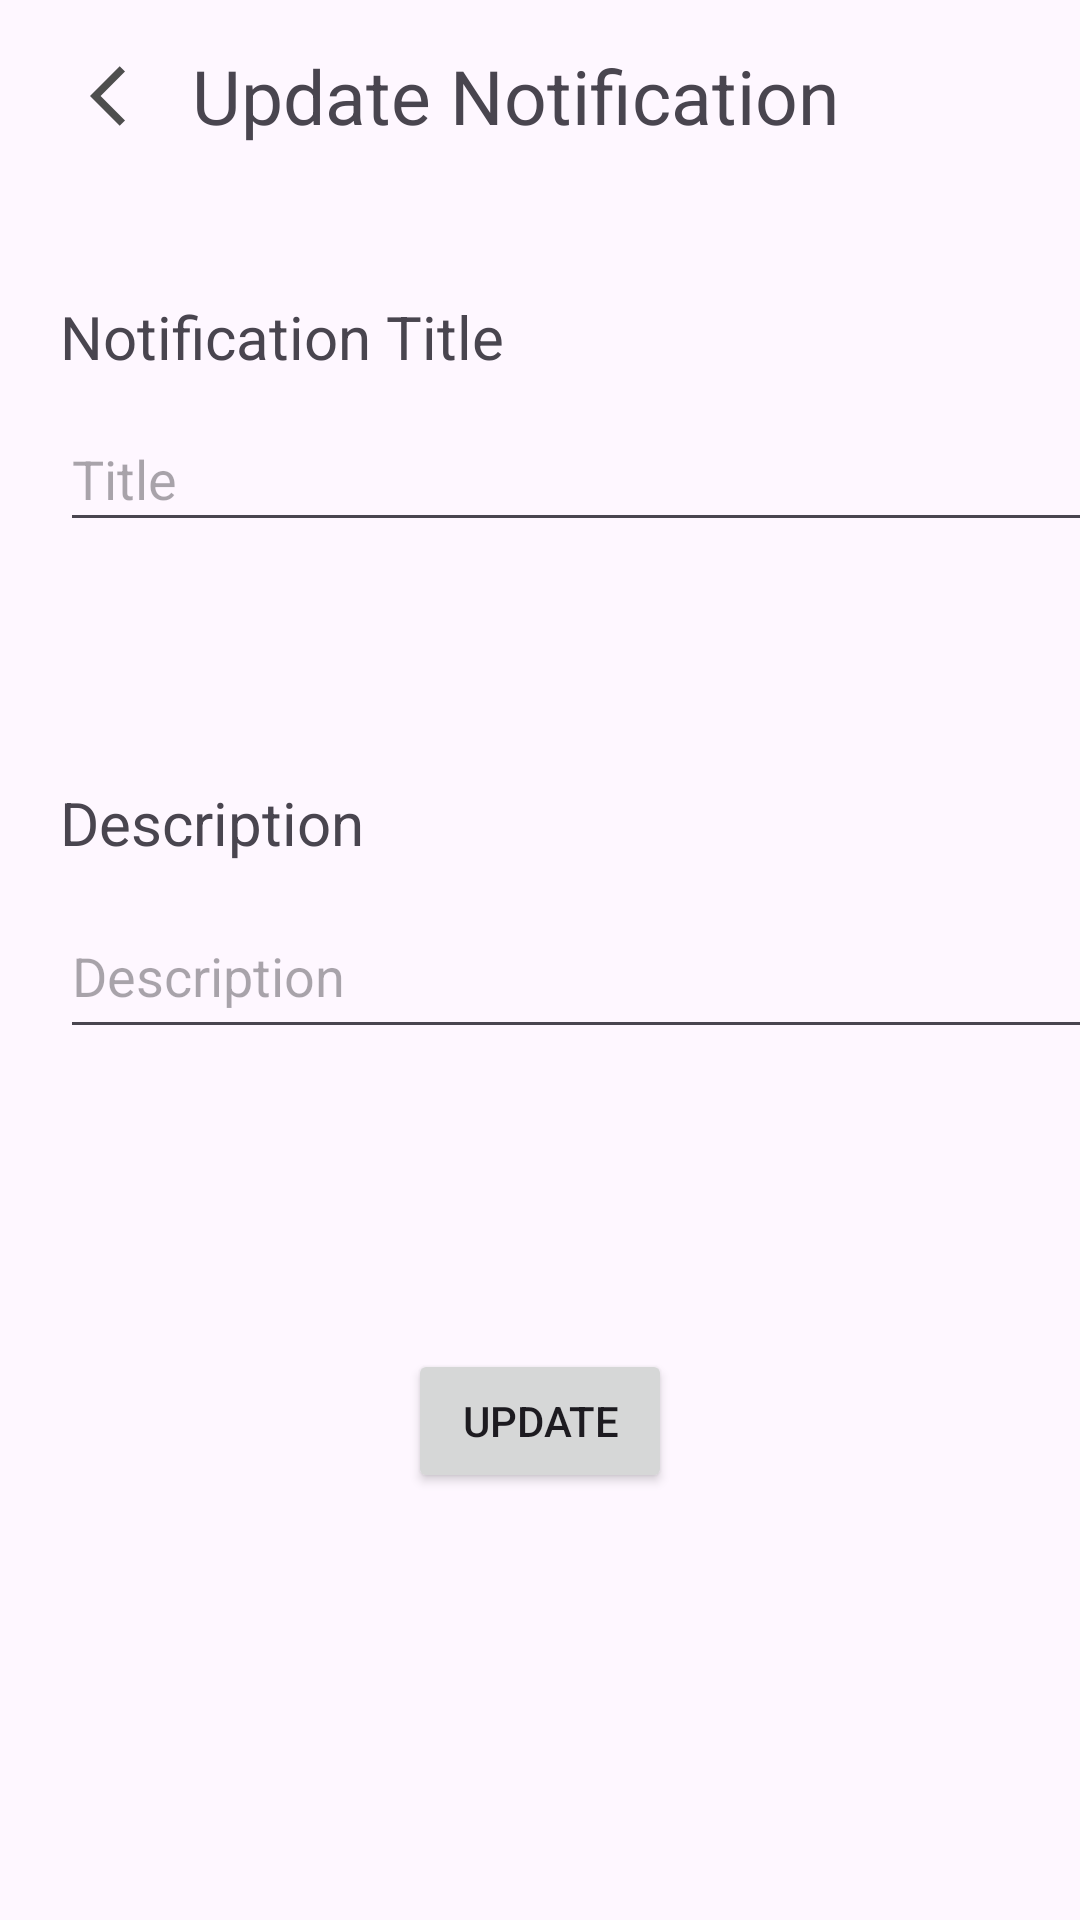

Screen size 1080px×1920px. Icon name, then its box in pixels as (x1, y1, x2, y2):
arrow back: (90, 66, 125, 126)
